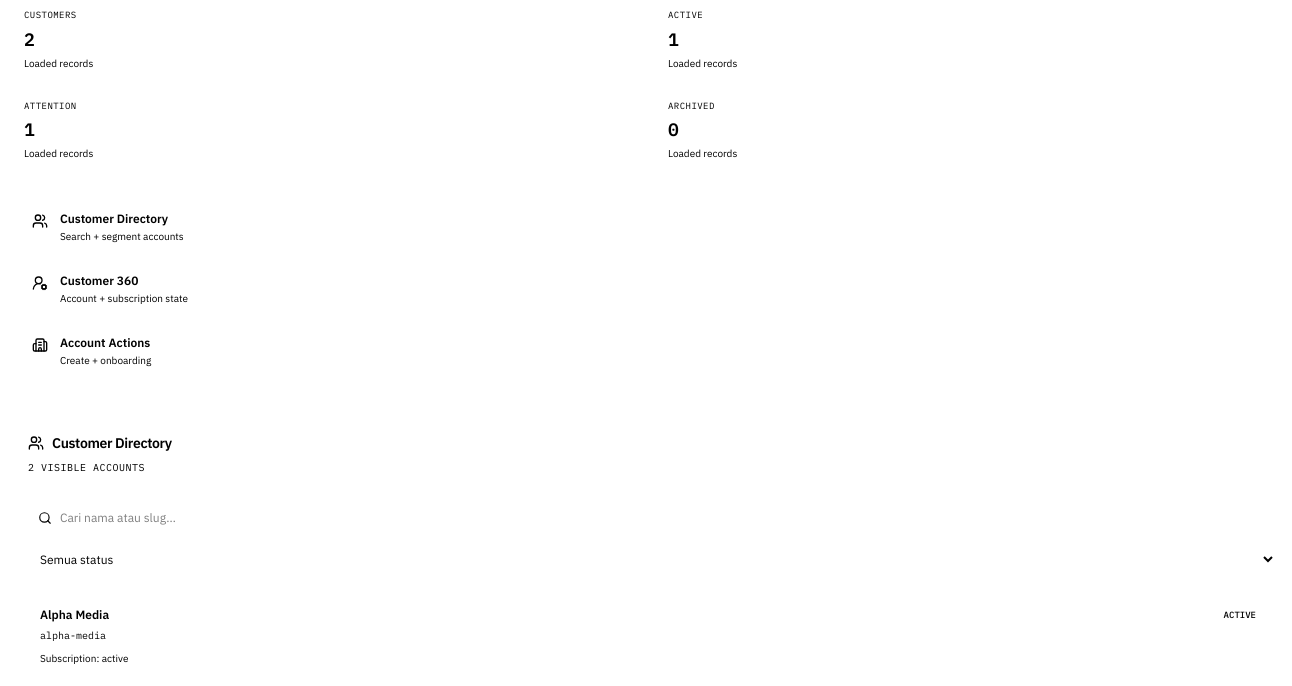
CustomerOperationsV2 › filters the directory and opens a customer 360 detail
Expected: the text "Alpha Media" is shown, 40,607 -> 109,623
In the field named "Cari customer": (652, 517) 28,501 -> 1276,533, type "beta"
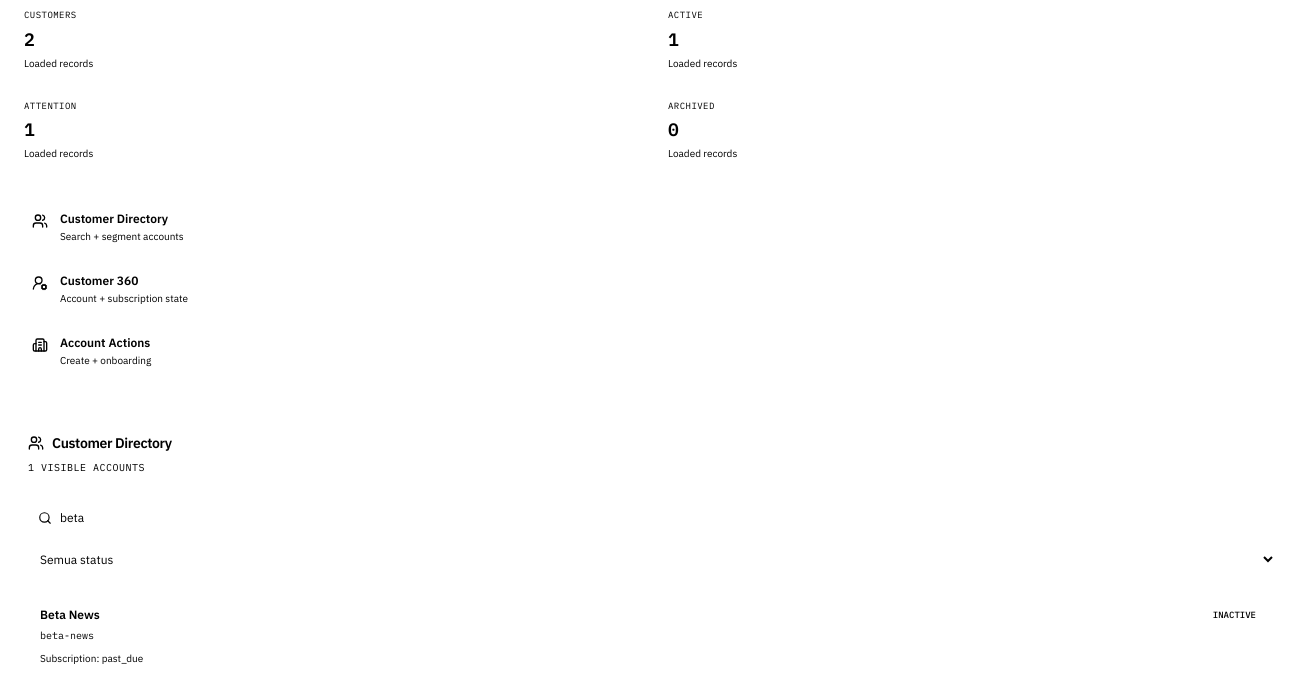
Expected: the button "Alpha Media" is gone
Click the button "Beta News inactive beta-news Subscription: past_due": (70, 615) 28,593 -> 1276,678
(page scrolled)
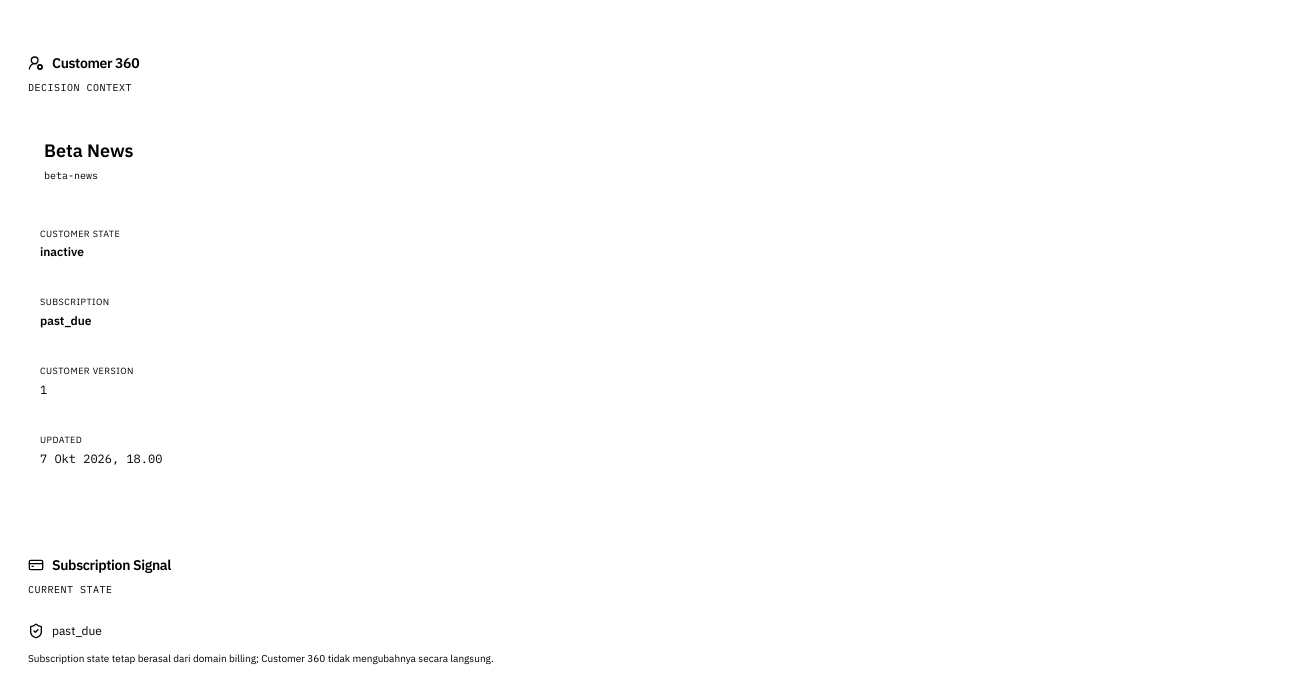
Expected: the text "past_due" below "inactive" is shown, 40,313 -> 92,328
